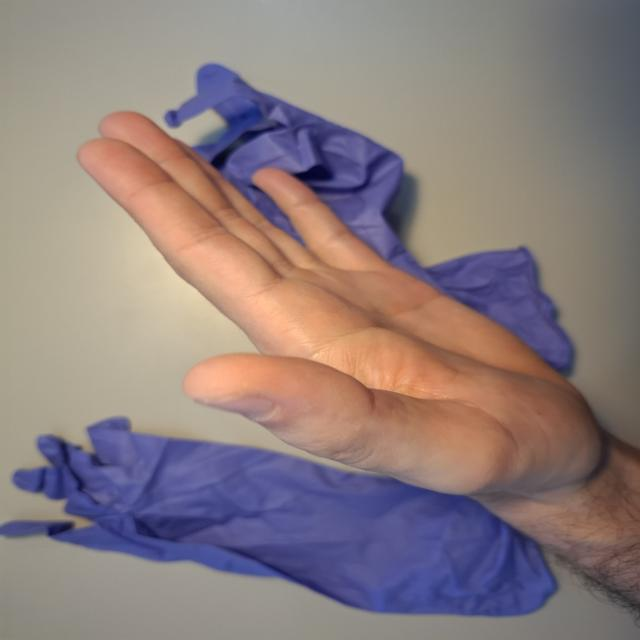glove_off: (73, 106, 611, 510)
